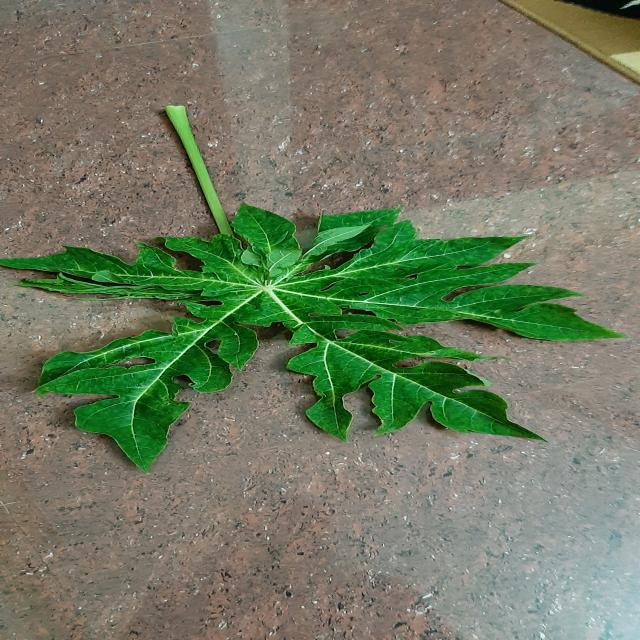papaya: (5, 205, 621, 470)
